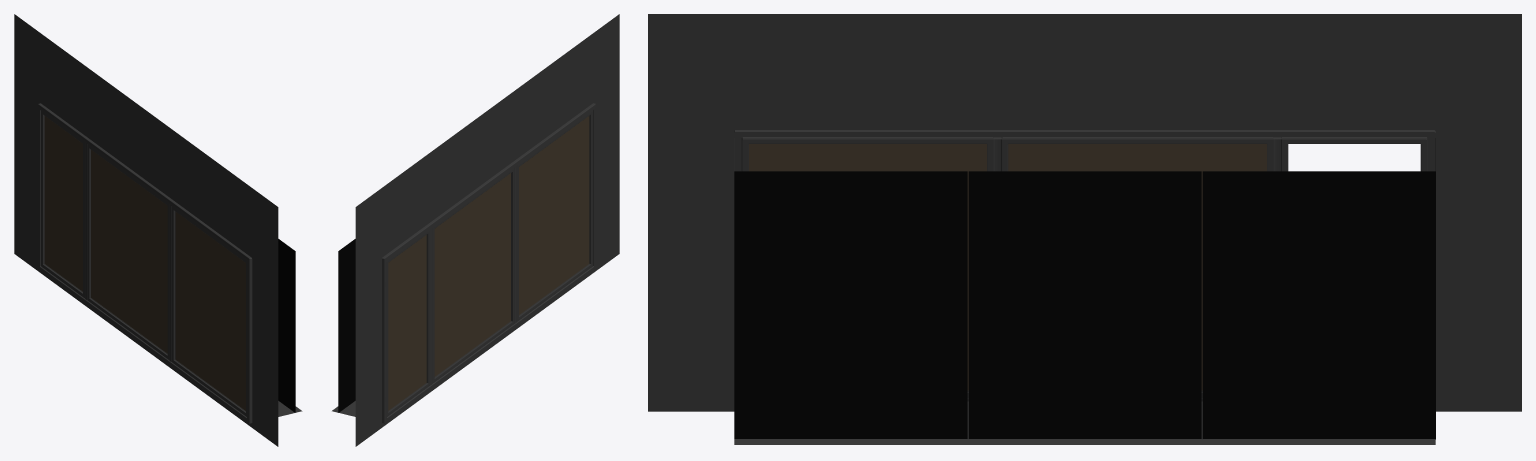
Rendered from SM_Mod_01_Build02.fbx.
3 renders of one model, left to right at view 1: azimuth 30°, elevation 25°; view 2: azimuth 150°, elevation 25°; view 3: azimuth 270°, elevation 25°, orthographic. The views are drawn at different scales.
Parts seen in each view (by area): view 1: SM_Mod_01_Build02_LOD0; view 2: SM_Mod_01_Build02_LOD0; view 3: SM_Mod_01_Build02_LOD0.
Boxes of the visible parts, <box> form: SM_Mod_01_Build02_LOD0: <box>14,14,302,446</box>; SM_Mod_01_Build02_LOD0: <box>332,14,619,446</box>; SM_Mod_01_Build02_LOD0: <box>648,14,1521,444</box>.
Bounding box in the file's own units: 99.11 × 850 × 427.
